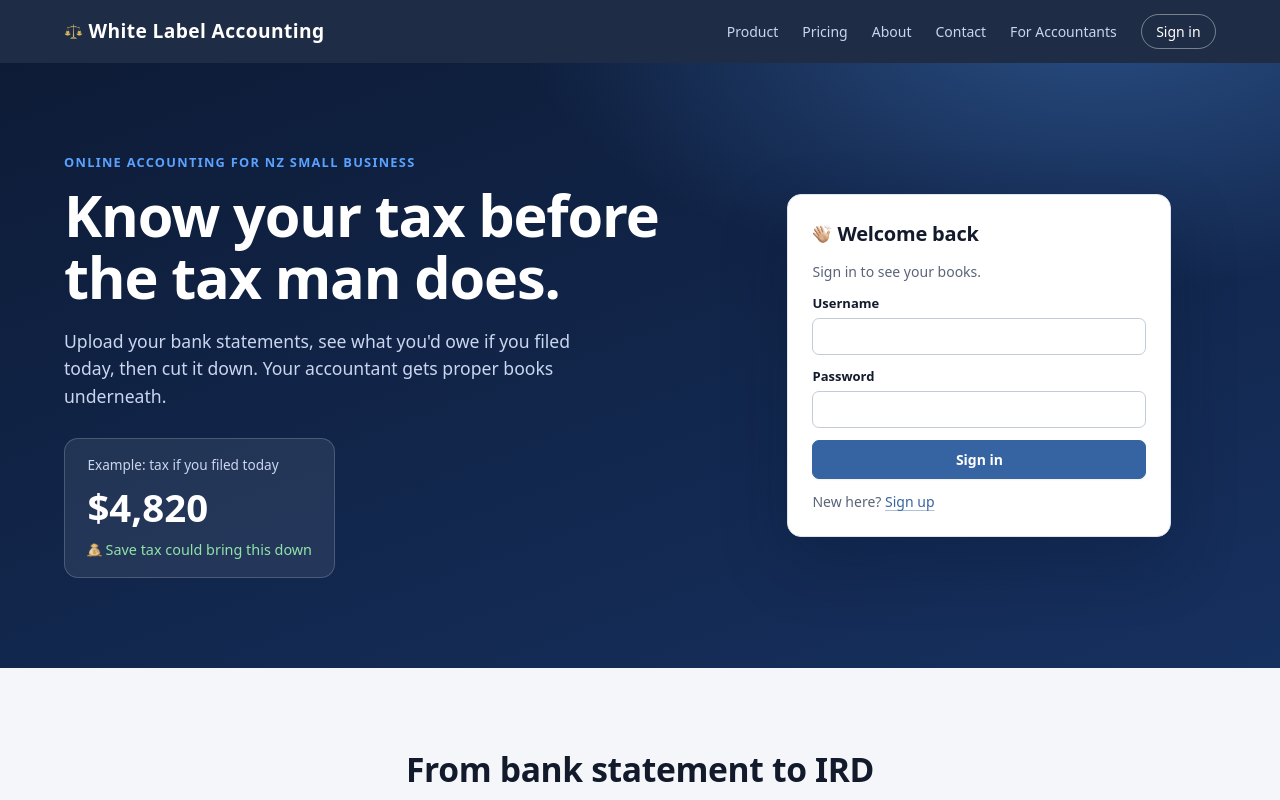
it: App › shows the server's message for a bad password
Type "sam" into the field labelled "Username" at (980, 336), box [812, 318, 1146, 355]
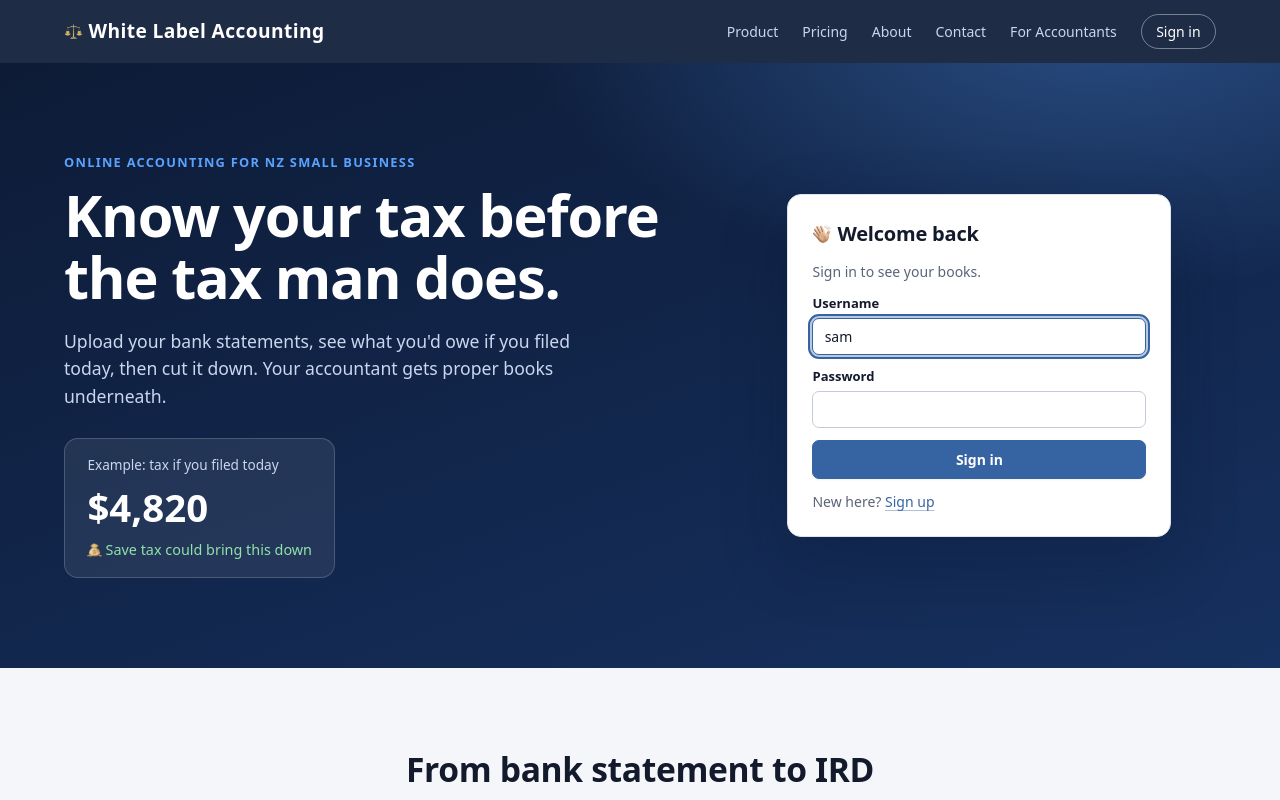
Click the button "Sign in" at (980, 460), box [812, 440, 1146, 479]
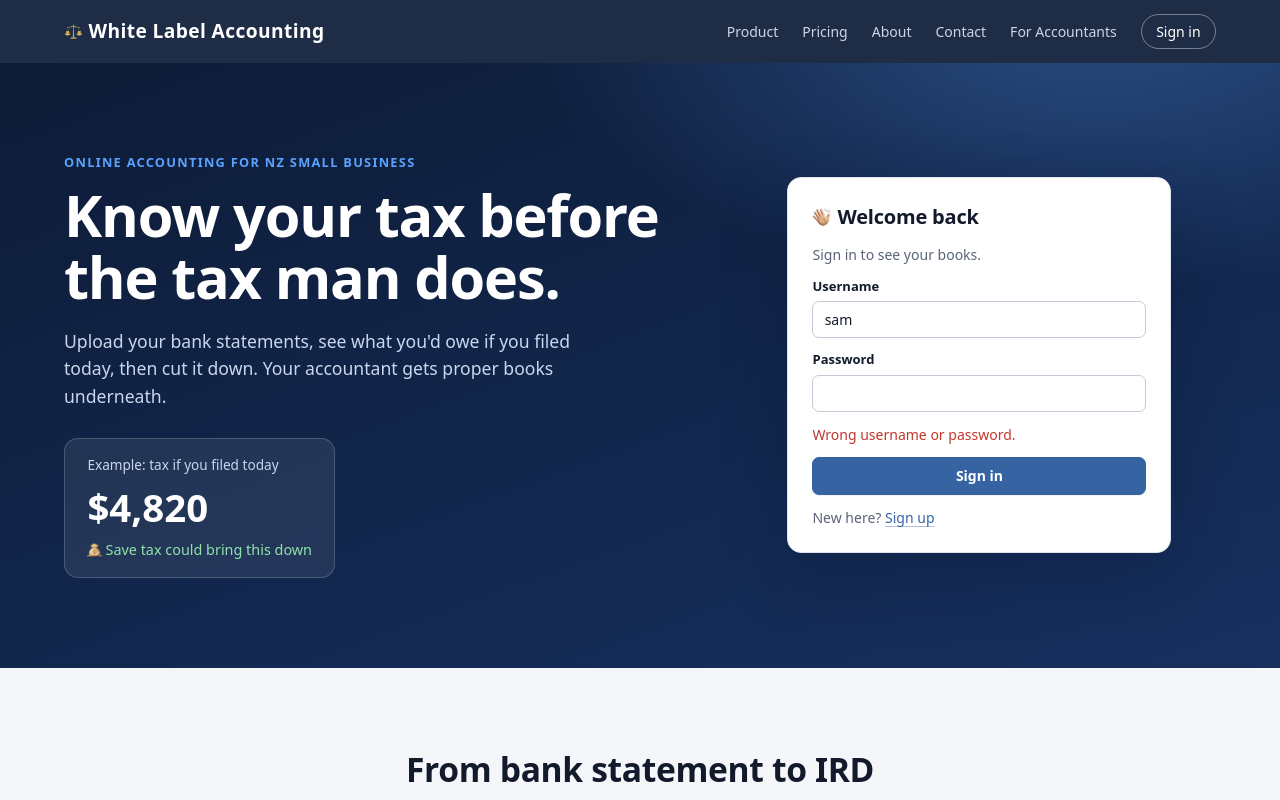
Expected: the message reads "Wrong username or password.", [812, 425, 1016, 444]
